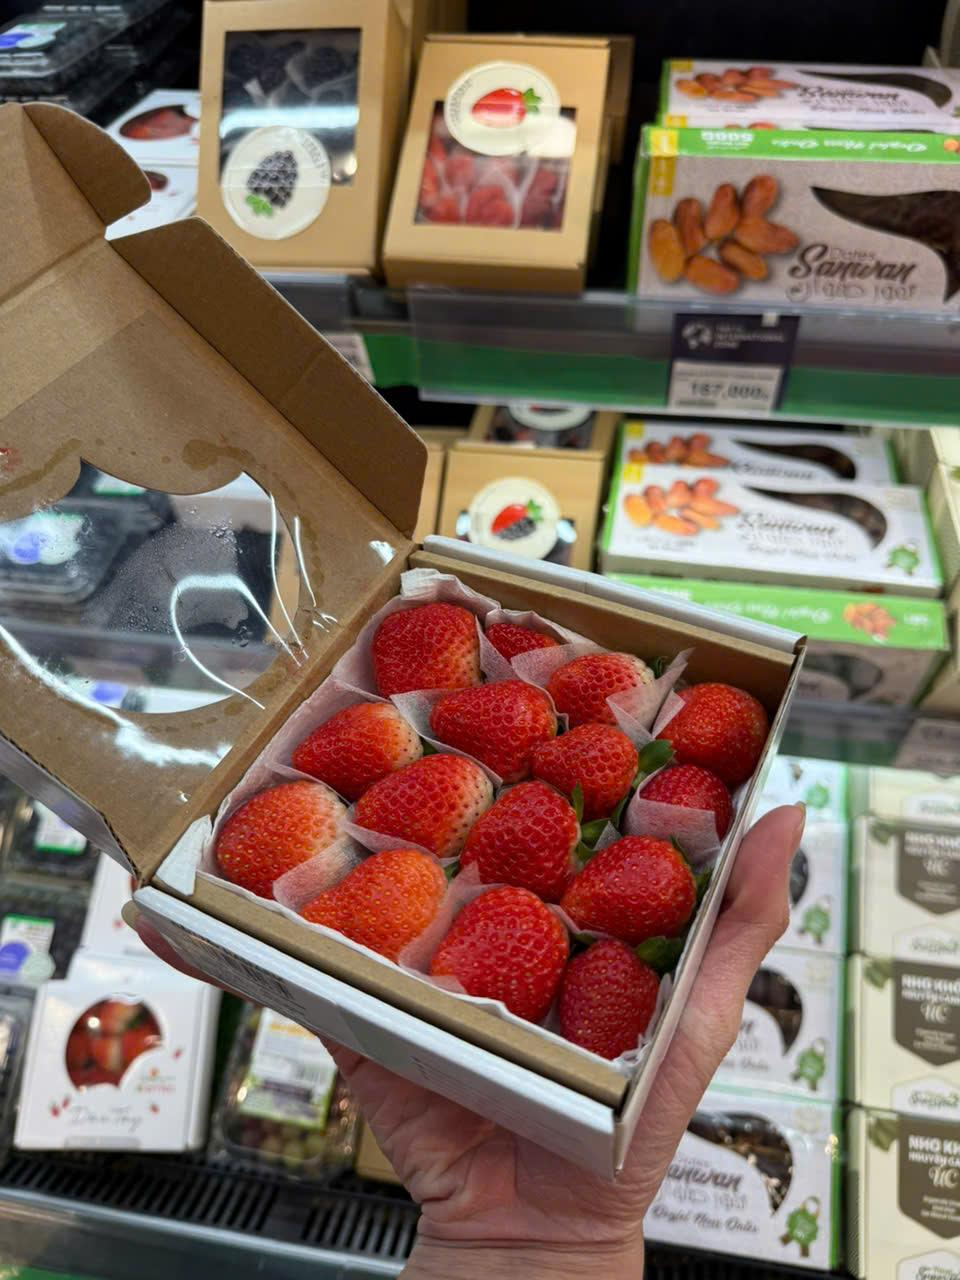strawberry: (292, 830, 448, 968), (438, 866, 558, 1030), (570, 815, 704, 945), (448, 775, 590, 890), (650, 663, 782, 778), (220, 768, 334, 894), (345, 583, 496, 677), (350, 746, 490, 848), (290, 685, 414, 800), (522, 700, 638, 807), (560, 923, 646, 1058), (419, 673, 538, 762), (535, 638, 656, 706)
